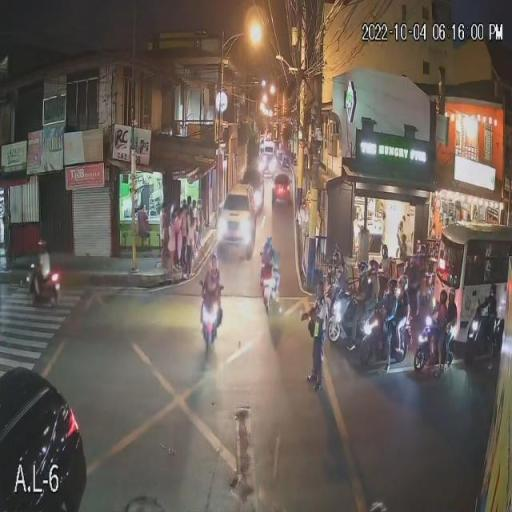helmet: (396, 274, 410, 295), (383, 278, 398, 295), (207, 255, 219, 275), (37, 240, 50, 255), (356, 262, 368, 278), (369, 259, 379, 278), (263, 241, 274, 257), (446, 290, 458, 303), (333, 251, 342, 268), (488, 285, 497, 300), (380, 244, 388, 258), (438, 291, 446, 304)
motorcycle: (358, 308, 416, 370), (409, 316, 460, 369), (463, 316, 506, 367), (324, 289, 356, 350), (26, 269, 59, 301), (203, 295, 219, 346), (257, 269, 277, 306)
rider: (396, 275, 407, 330), (367, 258, 379, 307), (355, 264, 367, 310), (260, 240, 277, 270), (330, 248, 343, 283), (382, 279, 392, 324), (37, 245, 50, 279), (207, 255, 218, 295), (486, 286, 498, 321), (447, 292, 456, 334), (380, 244, 390, 279), (438, 292, 445, 329)
